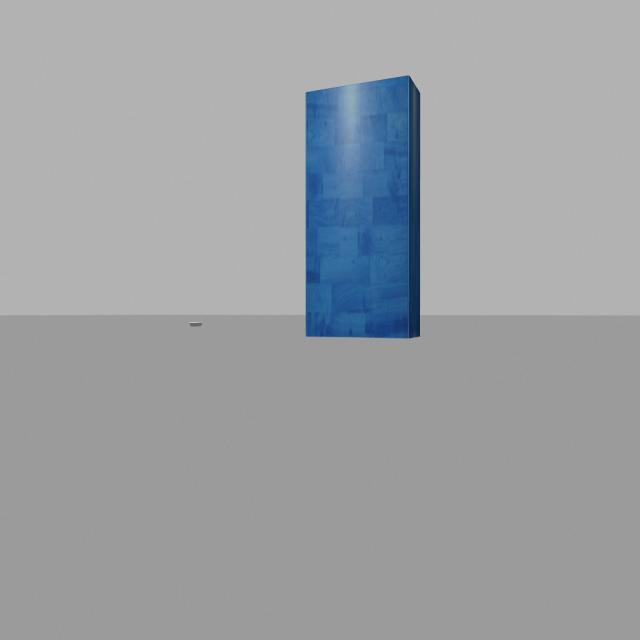bowl: (185, 310, 207, 333)
shelf: (298, 69, 428, 350)
